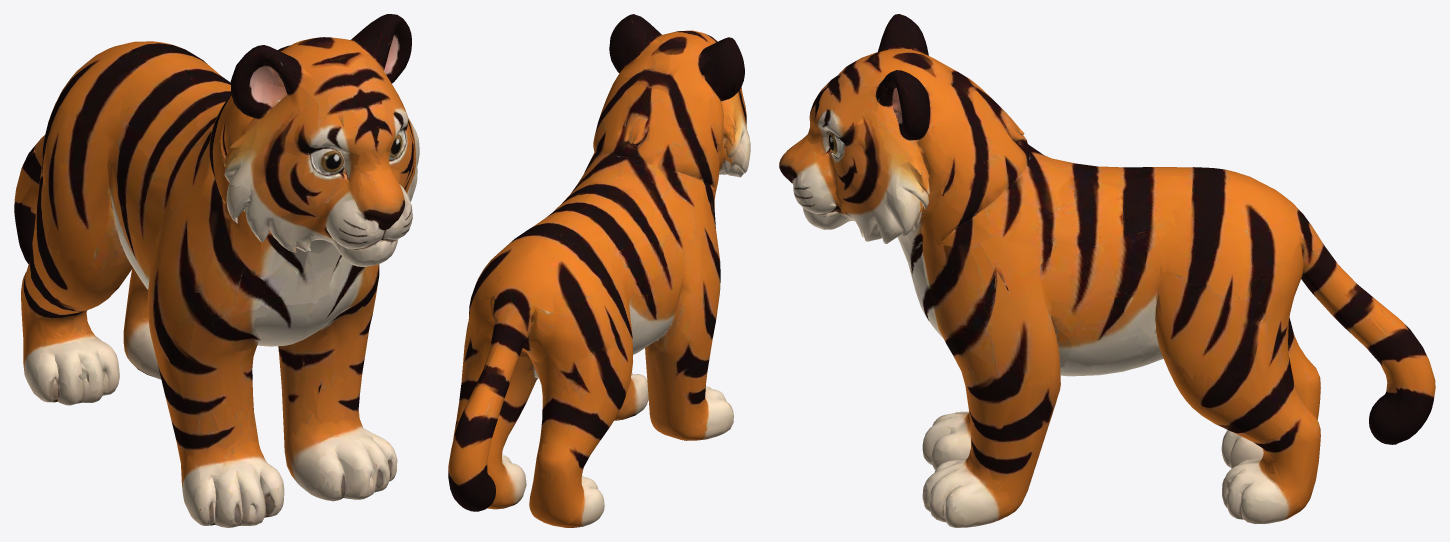
Rendered from upm_muprwzic2uu.glb.
3 views of the same model, side by side, from view 1: azimuth 30°, elevation 25°; view 2: azimuth 150°, elevation 25°; view 3: azimuth 270°, elevation 25° (orthographic). The views are drawn at different scales.
Size of the model in its own units: 0.6155 by 1.43 by 1.9.
Materials: 1 (1 with a texture image).
